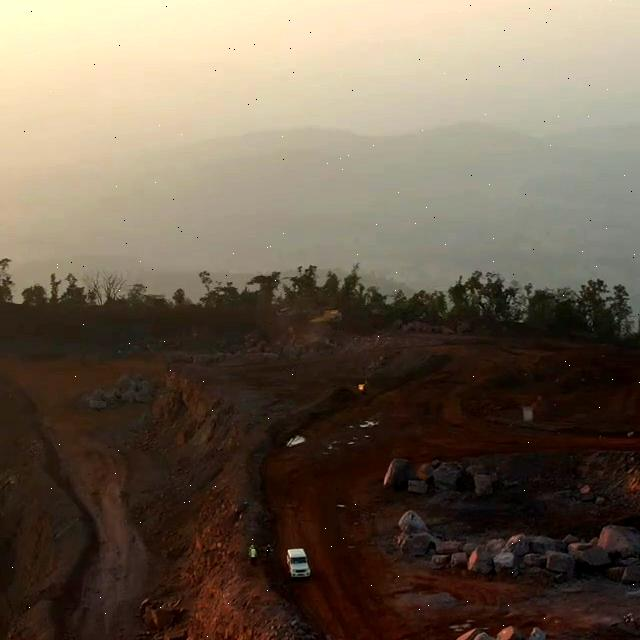car: (286, 547, 316, 584)
person: (245, 539, 259, 562)
